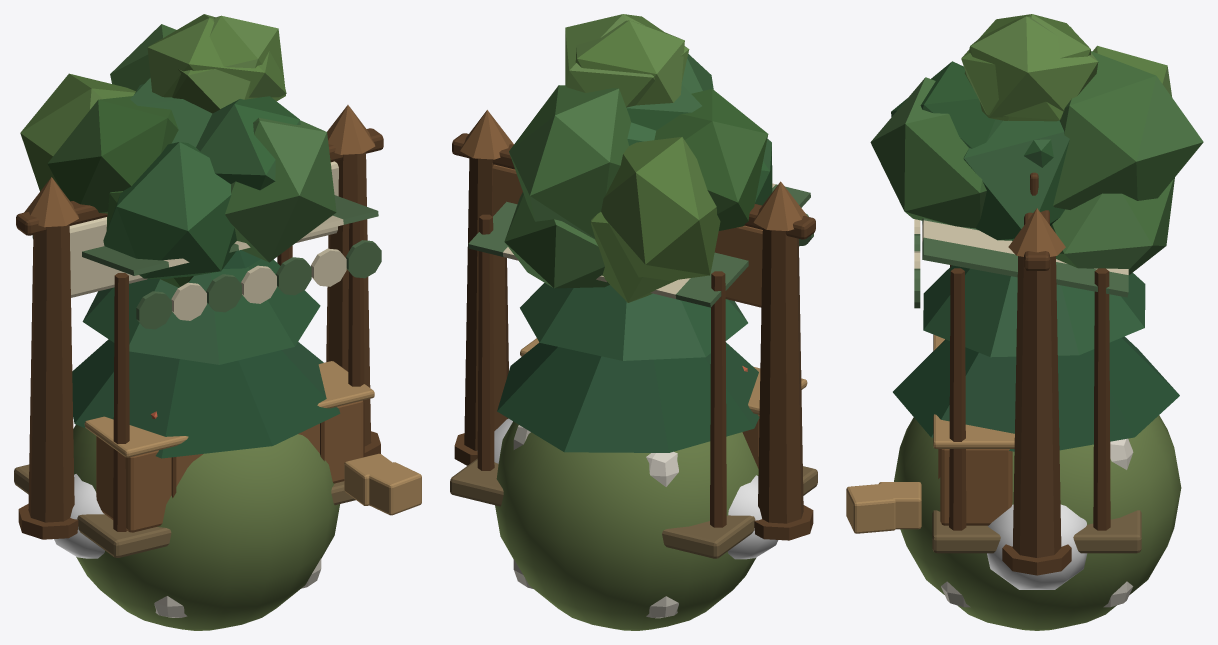
File: world.glb
3 views of the same model, side by side, from view 1: azimuth 30°, elevation 25°; view 2: azimuth 150°, elevation 25°; view 3: azimuth 270°, elevation 25° (orthographic). The views are drawn at different scales.
Visible parts, largest first — view 1: TreeOakA, MarketStall, TreePine, Hill, StartGate, TreeOakB, Cloud, Die; view 2: Hill, TreePine, StartGate, TreeOakA, TreeOakB, MarketStall, Cloud, Die; view 3: TreeOakA, MarketStall, TreePine, Hill, StartGate, TreeOakB, Cloud, Die.
Boxes of the visible parts, x1,y1,x2,y2 form: TreeOakA: (47, 15, 336, 278); MarketStall: (14, 195, 421, 557); TreePine: (72, 250, 340, 458); Hill: (73, 424, 339, 630); StartGate: (16, 105, 383, 539); TreeOakB: (20, 14, 300, 287); Cloud: (54, 474, 104, 558); Die: (154, 558, 321, 617); Hill: (495, 421, 758, 630); TreePine: (497, 283, 759, 452); StartGate: (452, 110, 815, 540); TreeOakA: (509, 14, 772, 302); TreeOakB: (504, 20, 720, 288); MarketStall: (450, 183, 817, 558); Cloud: (477, 418, 778, 559); Die: (513, 425, 678, 618); TreeOakA: (870, 16, 1203, 240); MarketStall: (846, 172, 1141, 553); TreePine: (893, 265, 1179, 451); Hill: (894, 415, 1181, 630); StartGate: (1002, 208, 1071, 575); TreeOakB: (891, 14, 1174, 275); Cloud: (987, 504, 1087, 589); Die: (941, 438, 1133, 607).
Bounding box in the file's own units: 2.9 × 4.67 × 2.48.
